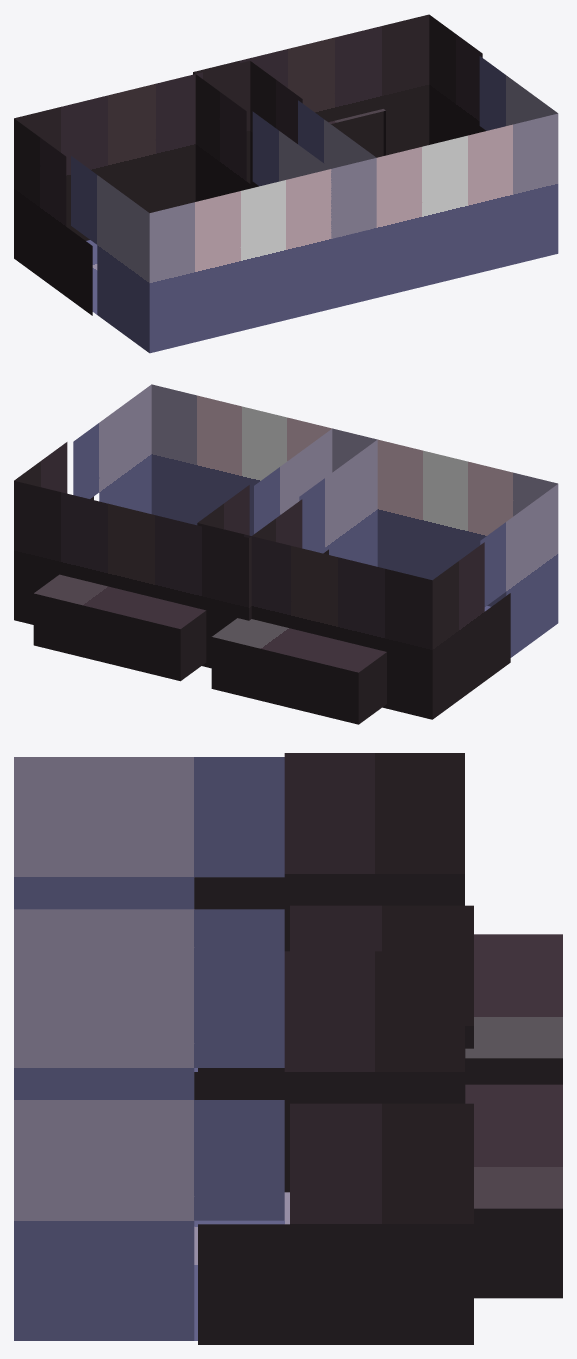
The model's file is netherite_mage_boots.glb.
3 views of the same model, one above another, from view 1: azimuth 30°, elevation 25°; view 2: azimuth 150°, elevation 25°; view 3: azimuth 270°, elevation 25° (orthographic). The views are drawn at different scales.
Bounding box in the file's own units: 0.575 × 0.1844 × 0.3803.
Materials: 1 (1 with a texture image).
